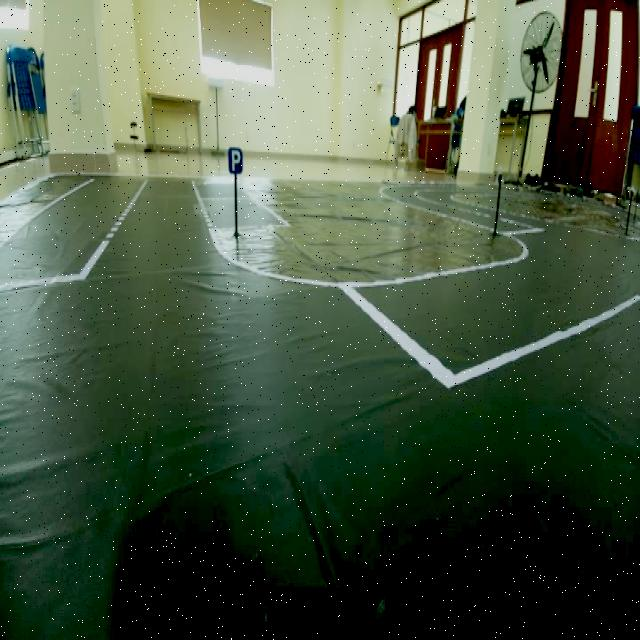parking: (224, 144, 248, 181)
